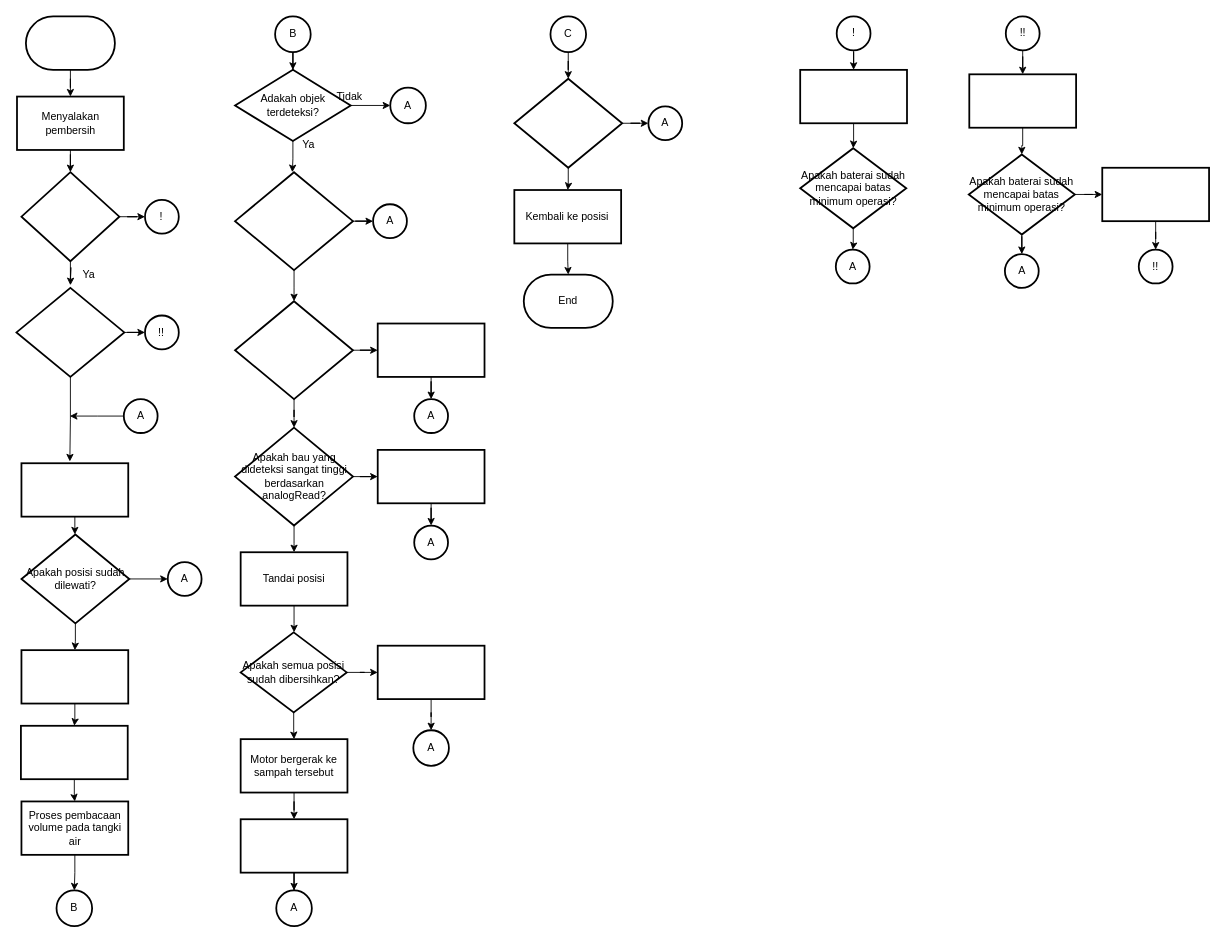
Some shapes in this 1225 by 942 pixel diagram are drawn without their labels. The centre of each missing label's shape, as x and y in pixels:
"Alat pergi ke power outlet untuk mengisi daya" belongs at (853,96).
"Apakah air dalam tangki masih ada?" belongs at (70,332).
"Apakah objek memiliki bau?" belongs at (293,350).
"Apakah objek merupakan sampah berdasarkan dataset?" belongs at (293,221).
"Apakah semua posisi sudah terlewati?" belongs at (568,122).
"Baterai masih tersedia?" belongs at (70,216).
"Dorong objek ke tempat sampah yang sudah ditentukan" belongs at (430,476).
"Memberi tahu pengguna untuk mengisi air kembali" belongs at (1155,194).
"Motor bergerak ke tempat lain yang belum ditandai" belongs at (430,672).
"Mulai membersihkan sampah dengan menyapu atau menyerok" belongs at (293,845).
"Pengguna perlu mengisi air sampai batas tertentu" belongs at (1022,100).
"Proses mapping lingkungan" belongs at (74,489).
"Proses pembacaan sensor gas" belongs at (74,752).
"Proses pembacaan sensor kamera" belongs at (74,676).
"Sedot atau sapu sampah tersebut" belongs at (430,349).
"Start" belongs at (70,42).
